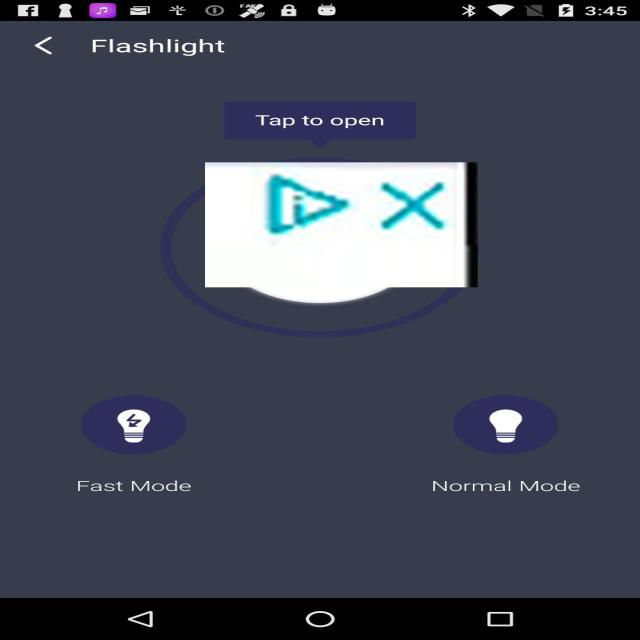sneaking: (205, 162, 478, 288)
